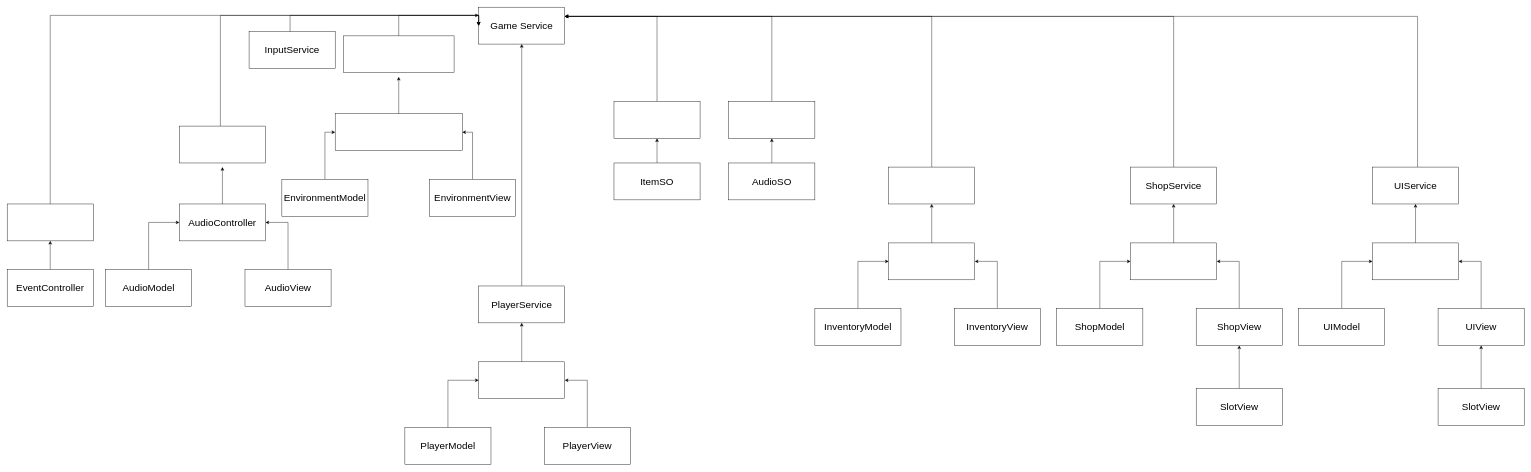
The diagram is 1531 pixels wide and 472 high, and some of its shapes have lost their labels. Each missing label, with the centre of its shape:
AudioDatabase: the point at 771,119
AudioService: the point at 222,144
EnvironmentController: the point at 398,132
EnvironmentService: the point at 398,54
EventService: the point at 50,222
InventoryController: the point at 931,261
InventoryService: the point at 931,185
ItemDatabase: the point at 657,119
PlayerController: the point at 521,380
ShopController: the point at 1173,261
UIController: the point at 1415,261
